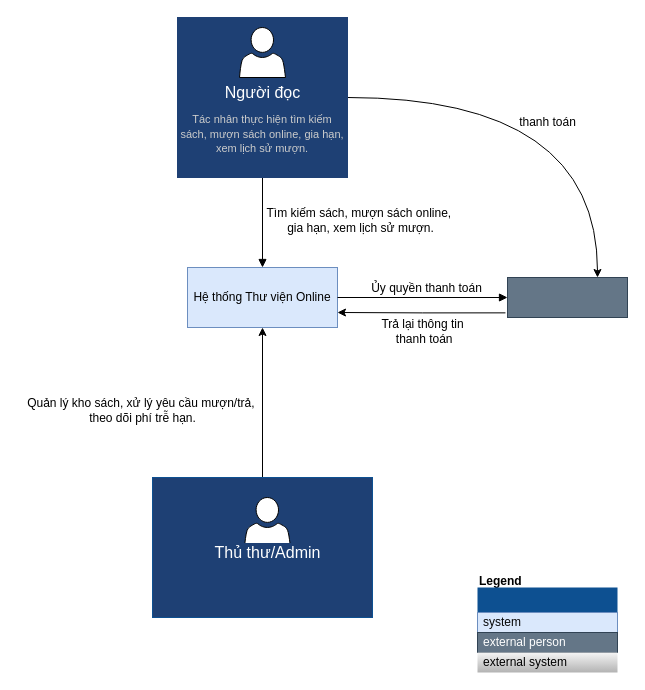
Image size: 645x690. Some labels were removed from this diagram. Here are the shapes that lost their labels. From the top down, the box of each, then its label:
(506, 276, 628, 318): Payment Gateway
(152, 476, 372, 618): [] Quản lý kho sách, xử lý yêu cầu mượn/trả, theo dõi phí trễ hạn.
(477, 587, 617, 612): person
